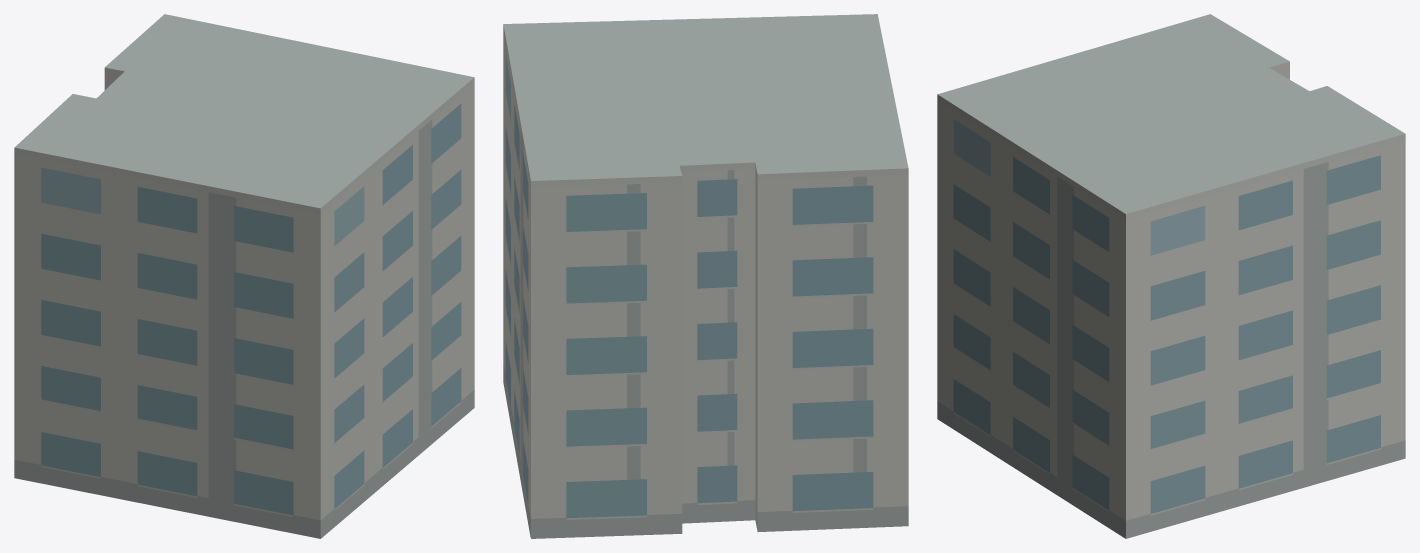
File: survey-upis-32888344.glb
3 renders of one model, left to right at view 1: azimuth 30°, elevation 25°; view 2: azimuth 150°, elevation 25°; view 3: azimuth 270°, elevation 25°, orthographic. The views are drawn at different scales.
Parts seen in each view (by area): view 1: survey-upis-32888344.tmp; view 2: survey-upis-32888344.tmp; view 3: survey-upis-32888344.tmp.
Boxes of the visible parts, x1=… form: survey-upis-32888344.tmp: x1=14, y1=14, x2=474, y2=538; survey-upis-32888344.tmp: x1=503, y1=14, x2=908, y2=538; survey-upis-32888344.tmp: x1=937, y1=14, x2=1405, y2=538.
Bounding box in the file's own units: 17.45 × 13.2 × 17.25.
